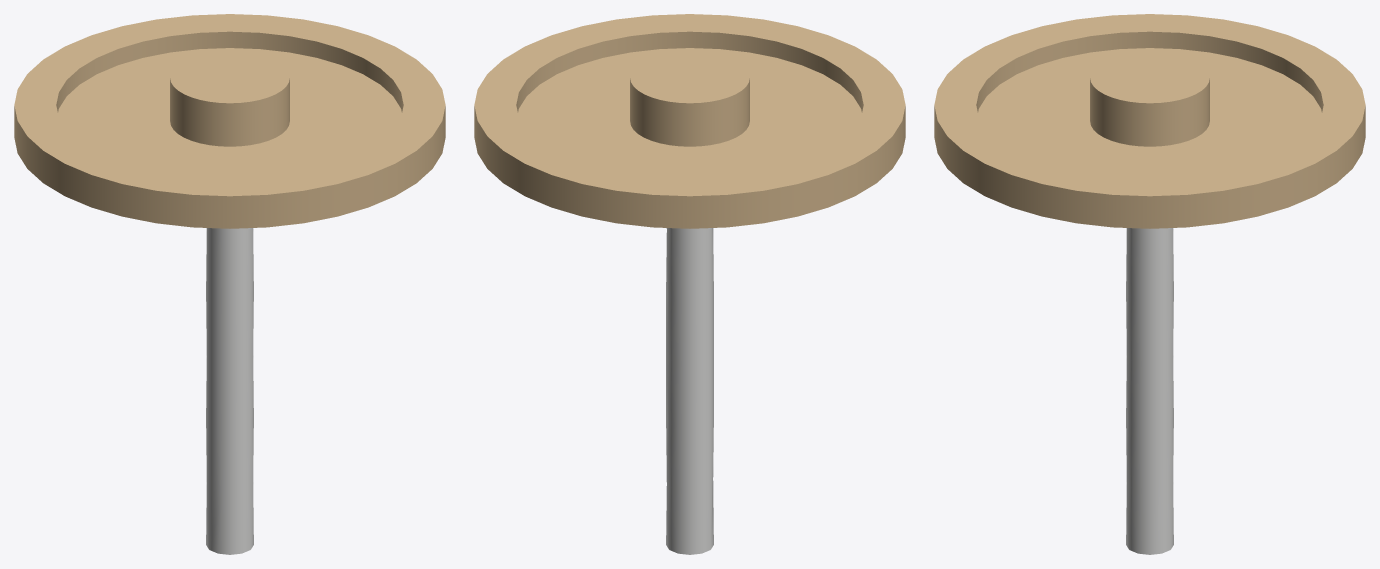
Rendered from gate_valve_stem.glb.
The picture shows the model from 3 angles, left to right: view 1: azimuth 30°, elevation 25°; view 2: azimuth 150°, elevation 25°; view 3: azimuth 270°, elevation 25°; orthographic projection.
Visible parts, largest first — view 1: handwheel, stem; view 2: handwheel, stem; view 3: handwheel, stem.
Boxes of the visible parts, x1,y1,x2,y2 form: handwheel: (14,14,445,228); stem: (206,228,253,554); handwheel: (474,14,905,228); stem: (666,228,713,554); handwheel: (934,14,1365,228); stem: (1126,228,1173,554).
Bounding box in the file's own units: 0.144 × 0.172 × 0.144.
